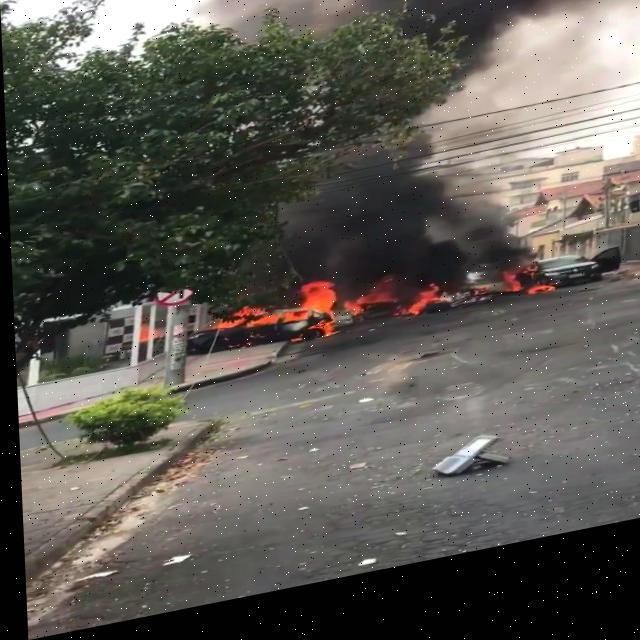Fire: (216, 290, 333, 365), (499, 283, 554, 322), (398, 300, 444, 334)
